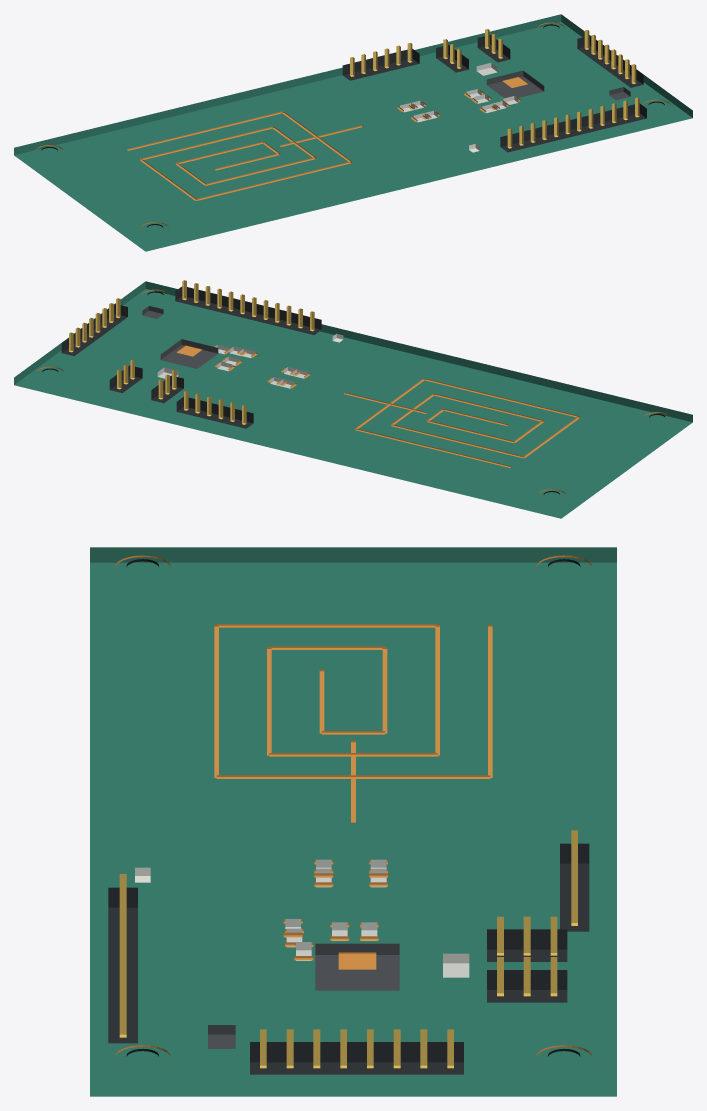
Rendered from reference-derived.glb.
3 views of the same model, one above another, from view 1: azimuth 30°, elevation 25°; view 2: azimuth 150°, elevation 25°; view 3: azimuth 270°, elevation 25° (orthographic). The views are drawn at different scales.
Parts seen in each view (by area): view 1: Adafruit PN532 v1.6 PCB, JP3 1x12 plastic, CN1 FTDI 1x06 plastic, U1 PN532 QFN40, JP4 1x08 plastic, JP2 SEL1 plastic, Antenna trace 1, Antenna trace 3, JP1 SEL0 plastic; view 2: Adafruit PN532 v1.6 PCB, JP3 1x12 plastic, CN1 FTDI 1x06 plastic, U1 PN532 QFN40, JP4 1x08 plastic, JP2 SEL1 plastic, JP1 SEL0 plastic, Antenna trace 1, Antenna trace 3; view 3: Adafruit PN532 v1.6 PCB, JP4 1x08 plastic, JP3 1x12 plastic, U1 PN532 QFN40, JP2 SEL1 plastic, CN1 FTDI 1x06 plastic, JP1 SEL0 plastic, Antenna trace 2, Antenna trace 4.
Part boxes in pixels (bbox=[...]): Adafruit PN532 v1.6 PCB: bbox=[14, 14, 692, 251]; JP3 1x12 plastic: bbox=[500, 103, 646, 152]; CN1 FTDI 1x06 plastic: bbox=[342, 49, 419, 80]; U1 PN532 QFN40: bbox=[486, 70, 544, 98]; JP4 1x08 plastic: bbox=[577, 35, 643, 87]; JP2 SEL1 plastic: bbox=[477, 35, 510, 62]; Antenna trace 1: bbox=[127, 111, 283, 150]; Antenna trace 3: bbox=[195, 161, 351, 200]; JP1 SEL0 plastic: bbox=[436, 45, 468, 72]; Adafruit PN532 v1.6 PCB: bbox=[14, 281, 692, 518]; JP3 1x12 plastic: bbox=[175, 286, 321, 334]; CN1 FTDI 1x06 plastic: bbox=[176, 397, 253, 428]; U1 PN532 QFN40: bbox=[160, 339, 218, 368]; JP4 1x08 plastic: bbox=[61, 304, 127, 356]; JP2 SEL1 plastic: bbox=[109, 365, 142, 392]; JP1 SEL0 plastic: bbox=[151, 375, 183, 403]; Antenna trace 1: bbox=[355, 428, 511, 467]; Antenna trace 3: bbox=[423, 378, 579, 417]; Adafruit PN532 v1.6 PCB: bbox=[90, 547, 616, 1096]; JP4 1x08 plastic: bbox=[250, 1042, 463, 1074]; JP3 1x12 plastic: bbox=[108, 887, 137, 1043]; U1 PN532 QFN40: bbox=[315, 943, 399, 990]; JP2 SEL1 plastic: bbox=[487, 970, 567, 1002]; CN1 FTDI 1x06 plastic: bbox=[560, 843, 589, 931]; JP1 SEL0 plastic: bbox=[487, 929, 567, 961]; Antenna trace 2: bbox=[216, 775, 490, 778]; Antenna trace 4: bbox=[216, 624, 437, 627].
Bounding box in the file's own units: 120 × 5.3 × 50.
